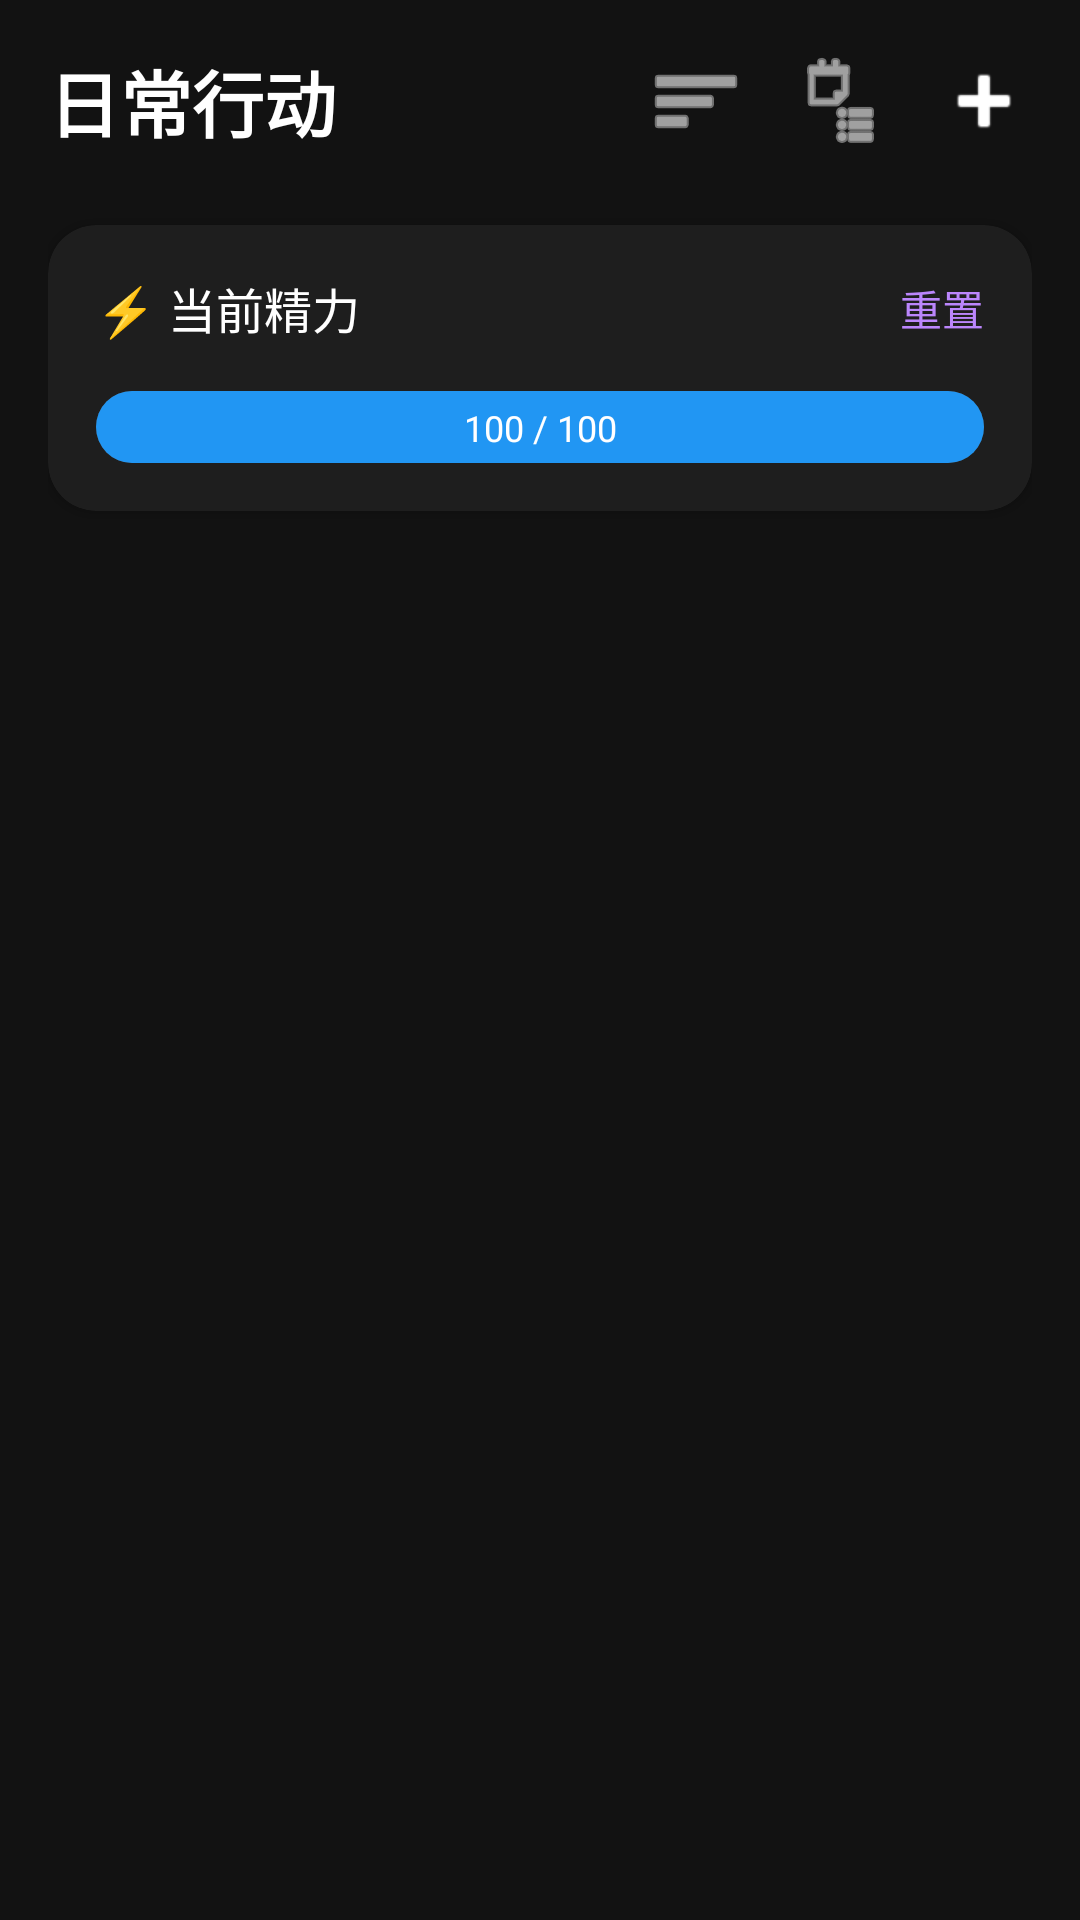

Screen size 1080*1920. Icon name, then its box in pixels as (x1, y1, x2, y2):
add: (957, 74, 1011, 128)
agenda: (807, 58, 874, 143)
sort by size: (655, 75, 737, 128)
